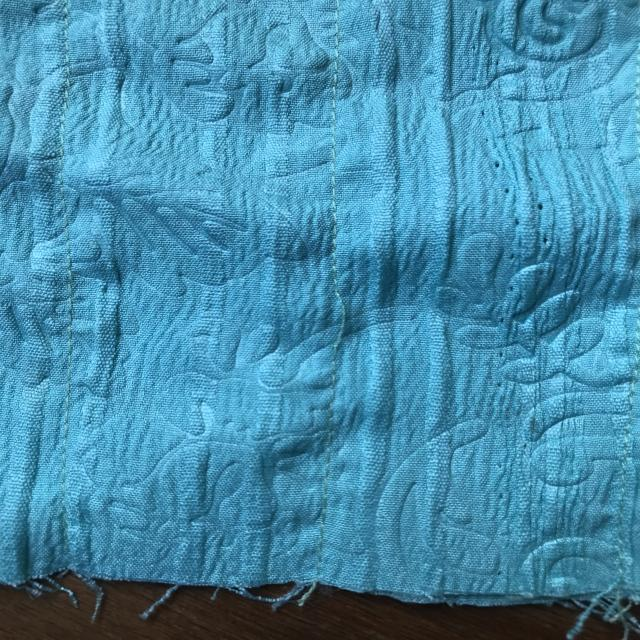good: (323, 139, 348, 213)
skip: (324, 278, 357, 374)
